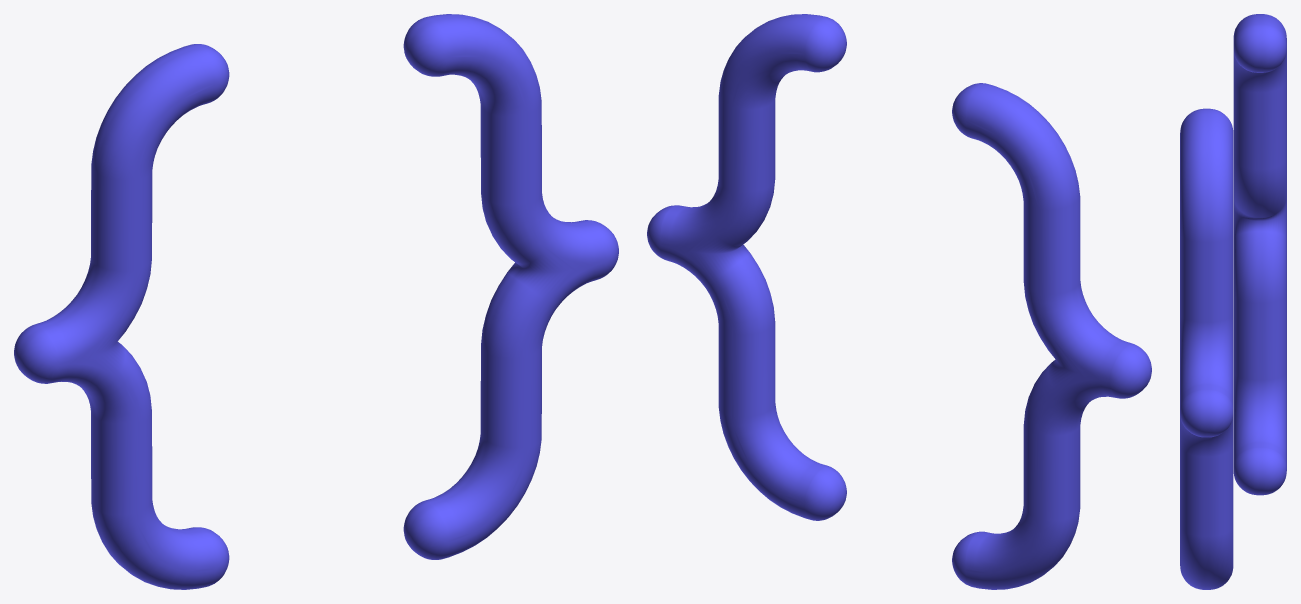
Rendered from 3d-code.glb.
3 renders of one model, left to right at view 1: azimuth 30°, elevation 25°; view 2: azimuth 150°, elevation 25°; view 3: azimuth 270°, elevation 25°, orthographic. The views are drawn at different scales.
Parts seen in each view (by area): view 1: Curve.002, Curve.001; view 2: Curve.001, Curve.002; view 3: Curve.002, Curve.001.
Part boxes in pixels (<box>): Curve.002: <box>14,44,229,589</box>; Curve.001: <box>403,14,618,559</box>; Curve.001: <box>647,14,846,520</box>; Curve.002: <box>952,83,1151,589</box>; Curve.002: <box>1233,14,1286,495</box>; Curve.001: <box>1180,108,1233,589</box>.
Size of the model in its own units: 0.6208 by 0.5642 by 0.1164.
